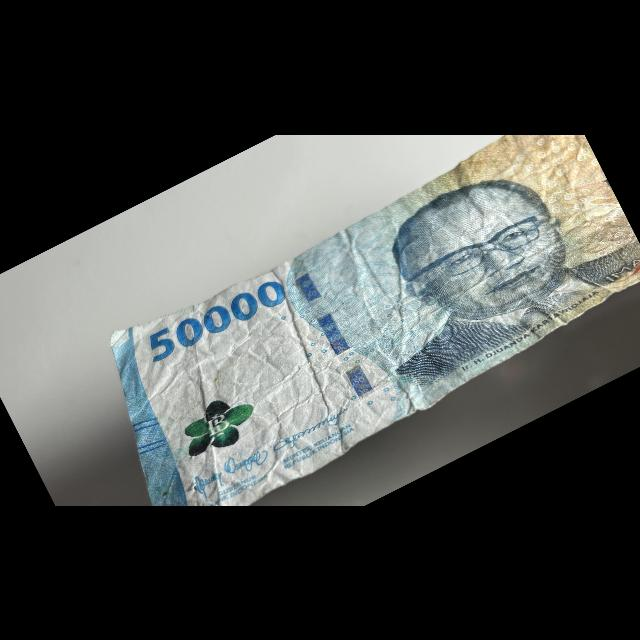Palsu-50k: (106, 107, 640, 507)
Tinta-Palsu-50k: (169, 386, 266, 463)
